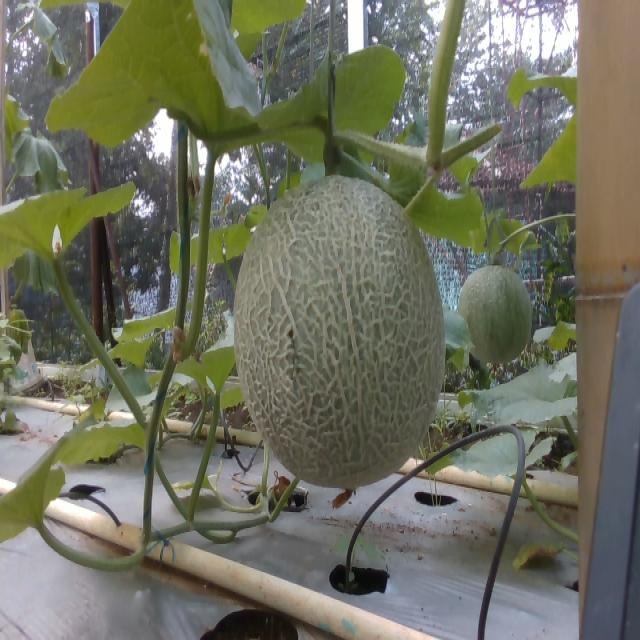melon: (235, 175, 445, 489)
